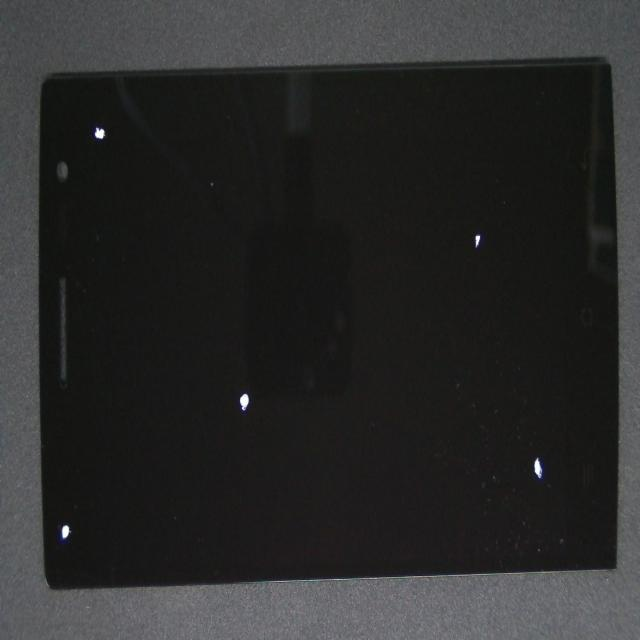stain: (232, 216, 640, 640), (77, 215, 356, 640), (249, 87, 640, 324), (38, 220, 86, 640), (59, 48, 143, 181)
